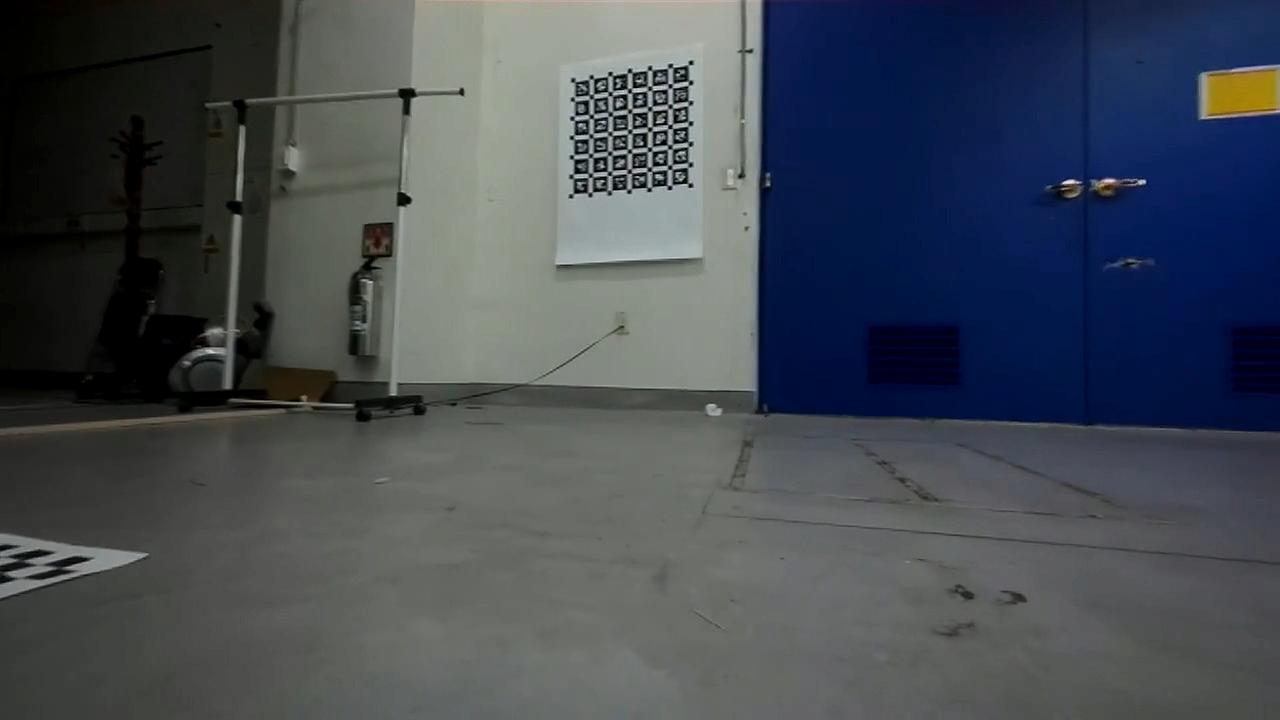crazyflie: (1098, 250, 1163, 275)
